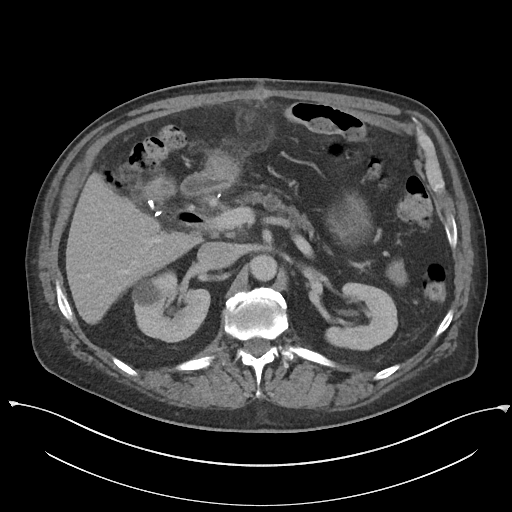Lesion: (131, 277, 164, 310)
